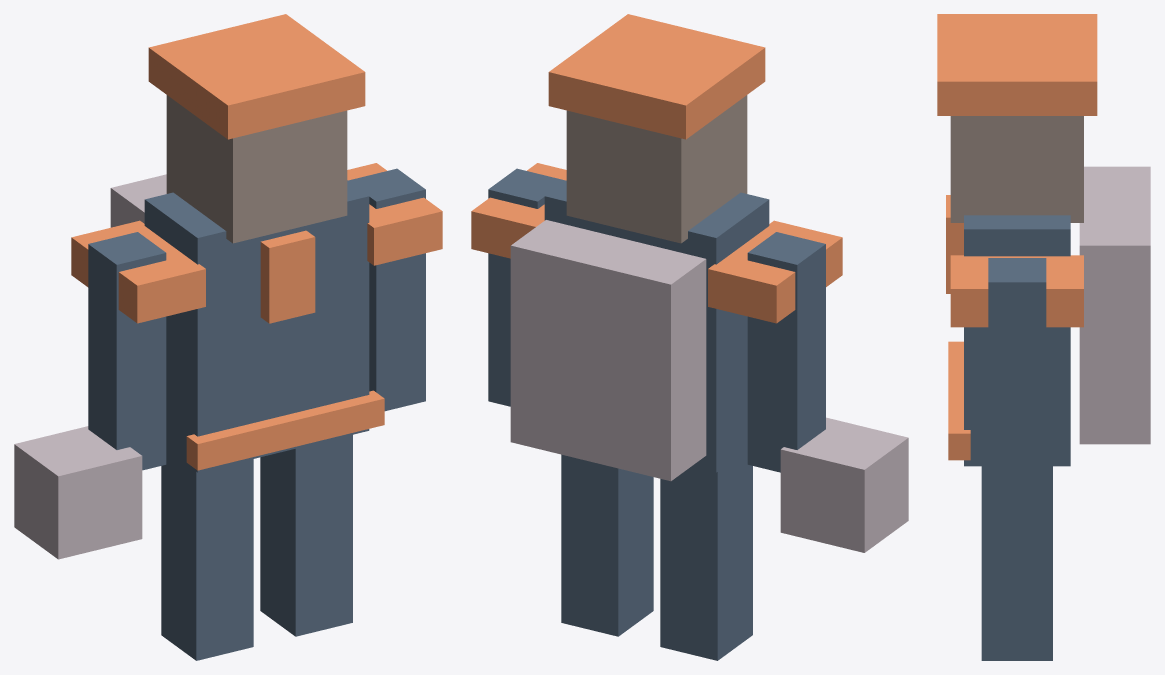
Rendered from 08_cassian_rootborne_broker_from_patrol.glb.
3 renders of one model, left to right at view 1: azimuth 30°, elevation 25°; view 2: azimuth 150°, elevation 25°; view 3: azimuth 270°, elevation 25°, orthographic.
Visible parts, largest first — view 1: Cassian Rootborne, Broker from Patrol; view 2: Cassian Rootborne, Broker from Patrol; view 3: Cassian Rootborne, Broker from Patrol.
Boxes of the visible parts, <box> form: Cassian Rootborne, Broker from Patrol: <box>14,14,442,660</box>; Cassian Rootborne, Broker from Patrol: <box>471,14,908,660</box>; Cassian Rootborne, Broker from Patrol: <box>937,14,1150,660</box>.
Size of the model in its own units: 1.02 by 1.46 by 0.4916.
